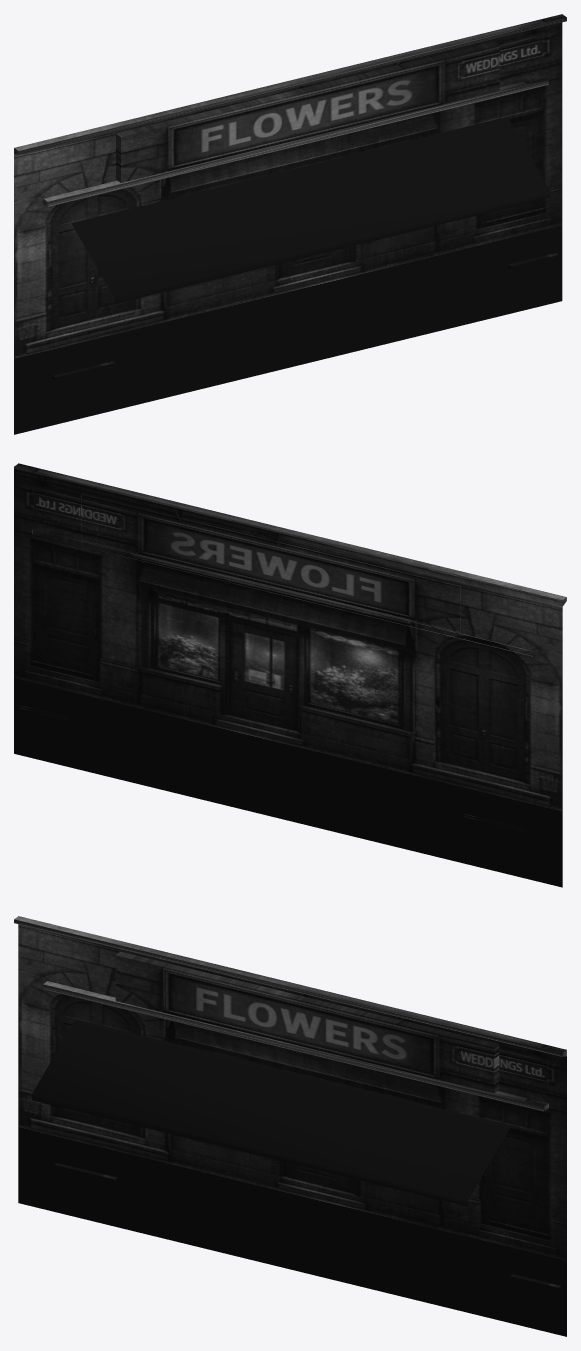
File: shop.obj
3 views of the same model, one above another, from view 1: azimuth 30°, elevation 25°; view 2: azimuth 150°, elevation 25°; view 3: azimuth 330°, elevation 25° (orthographic).
Parts seen in each view (by area): view 1: group; view 2: group; view 3: group.
Part boxes in pixels (box(x1,y1,x2,y2)): group: box(14, 14, 566, 434); group: box(14, 463, 566, 887); group: box(14, 916, 566, 1336).
Bounding box in the file's own units: 10 × 5 × 1.39.
